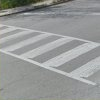crosswalk: (0, 23, 100, 85)
